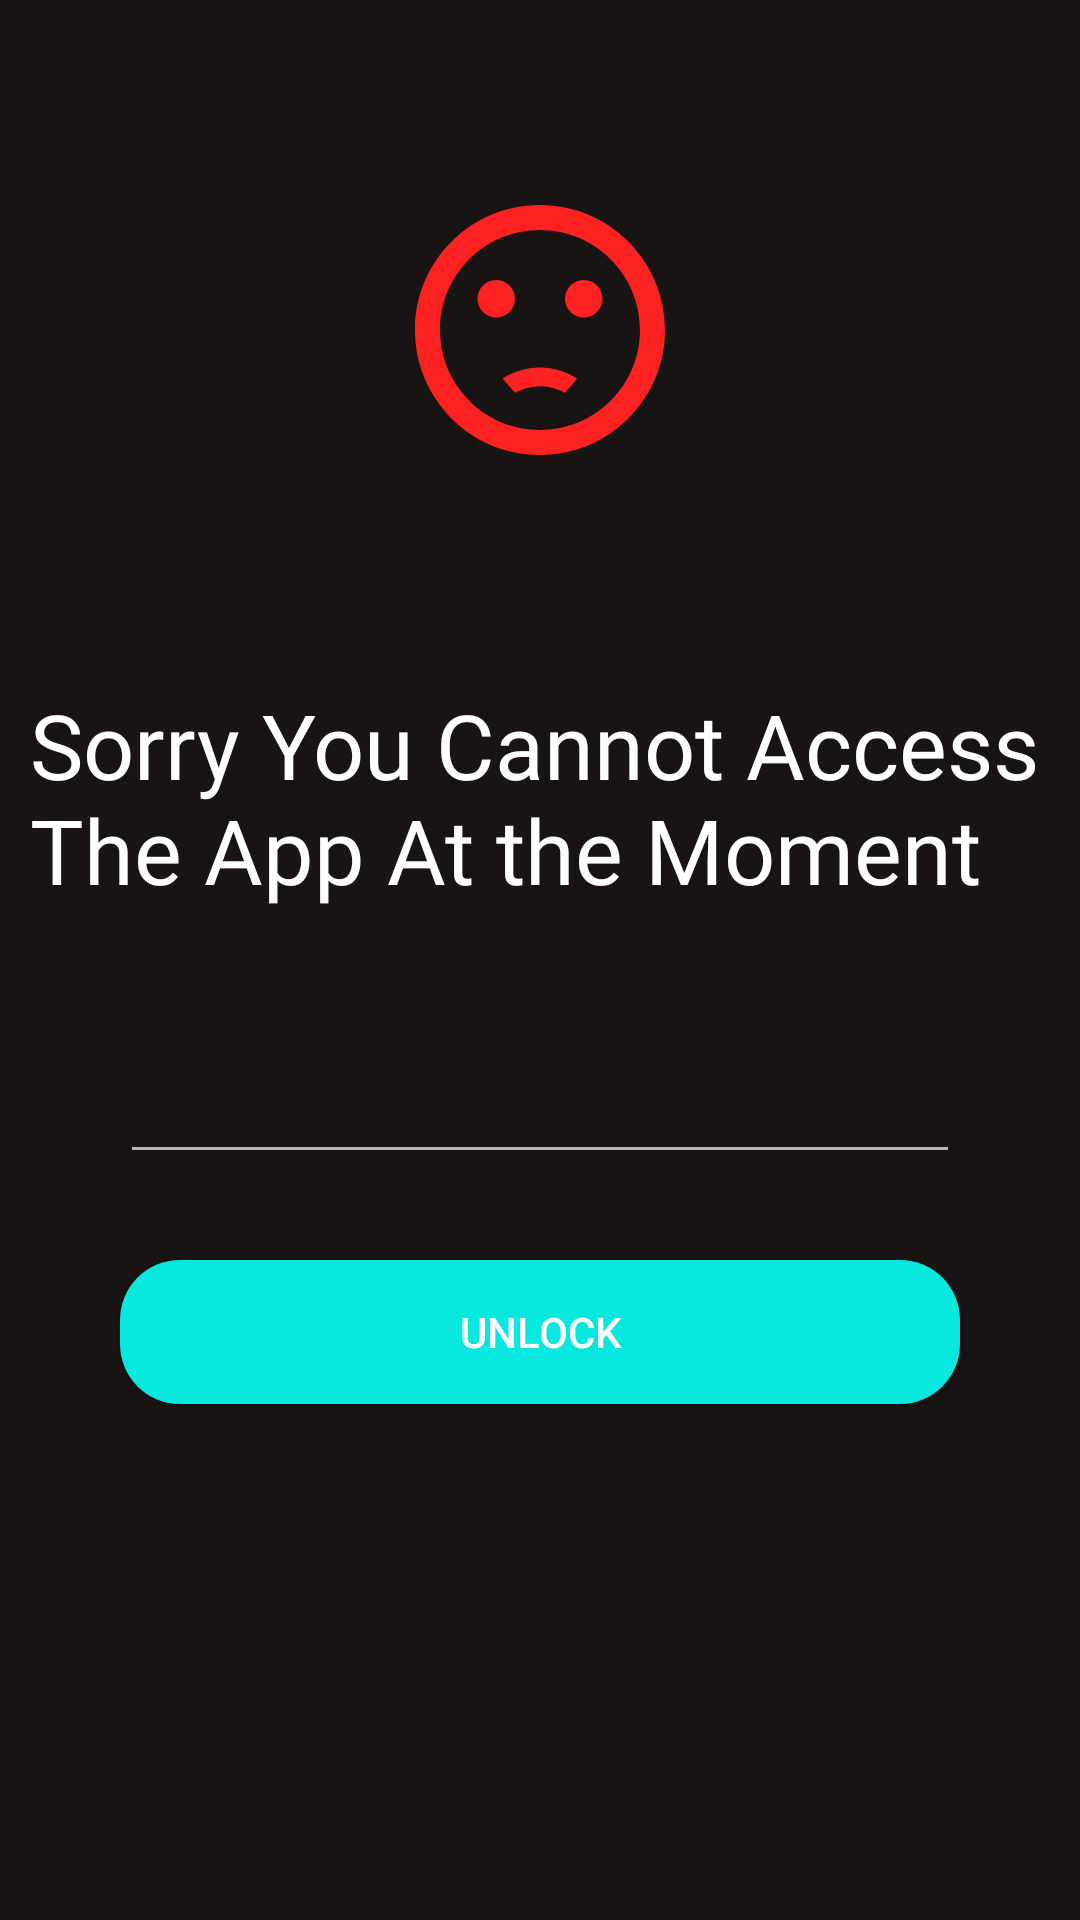

Icon bounding boxes for this 1080×1920 phone screenshot, format (x1,y1,x2,y2):
sentiment dissatisfied: (415,205,665,455)
